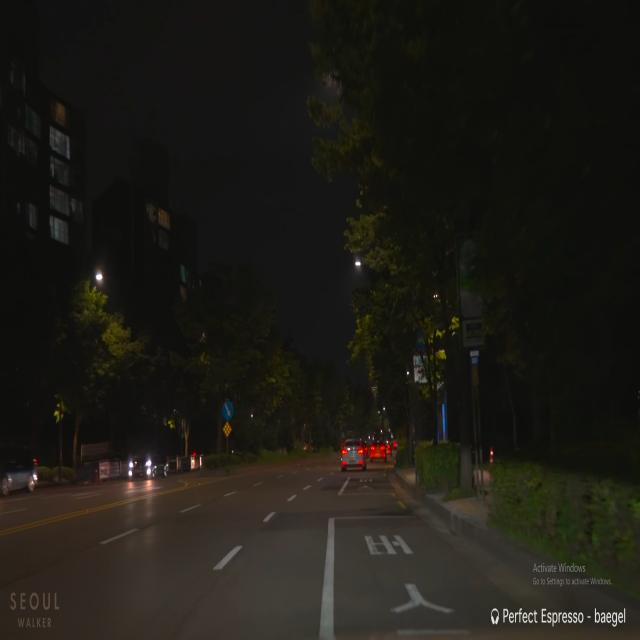headlights: (124, 456, 159, 482)
